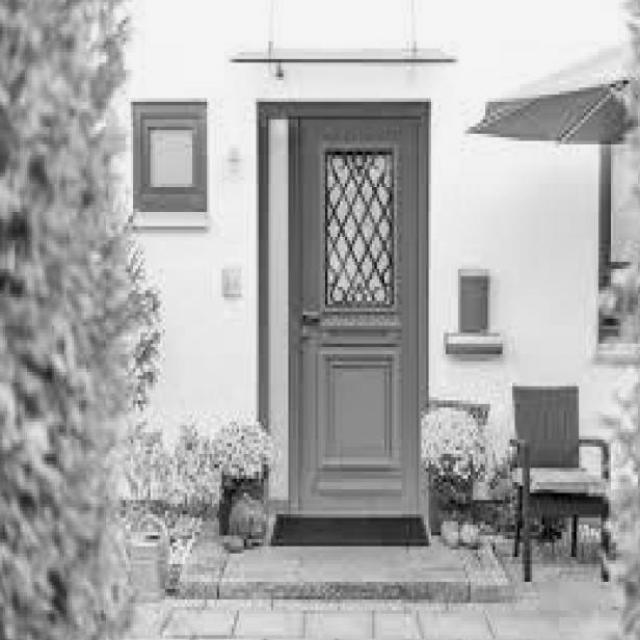Door: (286, 110, 423, 517)
